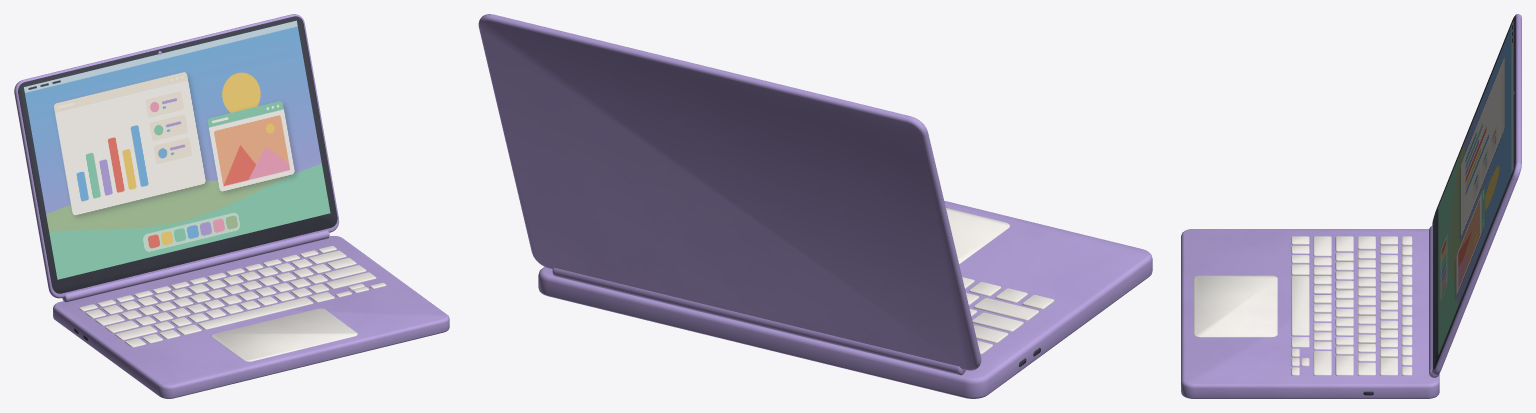
Rendered from laptop.glb.
3 views of the same model, side by side, from view 1: azimuth 30°, elevation 25°; view 2: azimuth 150°, elevation 25°; view 3: azimuth 270°, elevation 25° (orthographic). The views are drawn at different scales.
Parts seen in each view (by area): view 1: laptop_lid, laptop_body; view 2: laptop_lid, laptop_body; view 3: laptop_body, laptop_lid.
Part boxes in pixels (x1,y1,x2,y2): laptop_lid: [14, 14, 339, 302]; laptop_body: [53, 236, 449, 398]; laptop_lid: [478, 14, 981, 375]; laptop_body: [538, 201, 1152, 398]; laptop_body: [1181, 229, 1439, 398]; laptop_lid: [1429, 14, 1521, 377].
Bounding box in the file's own units: 0.3208 × 0.2214 × 0.2926.
Materials: 2 (2 with a texture image).
